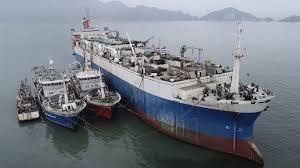Ship: (74, 20, 274, 165), (64, 63, 122, 120), (33, 68, 87, 128), (18, 80, 40, 122)
